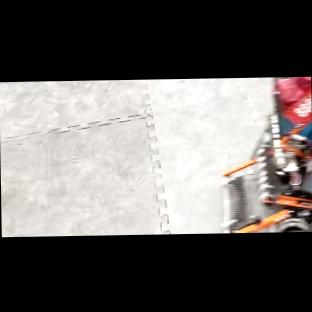Robot: (213, 76, 312, 232)
